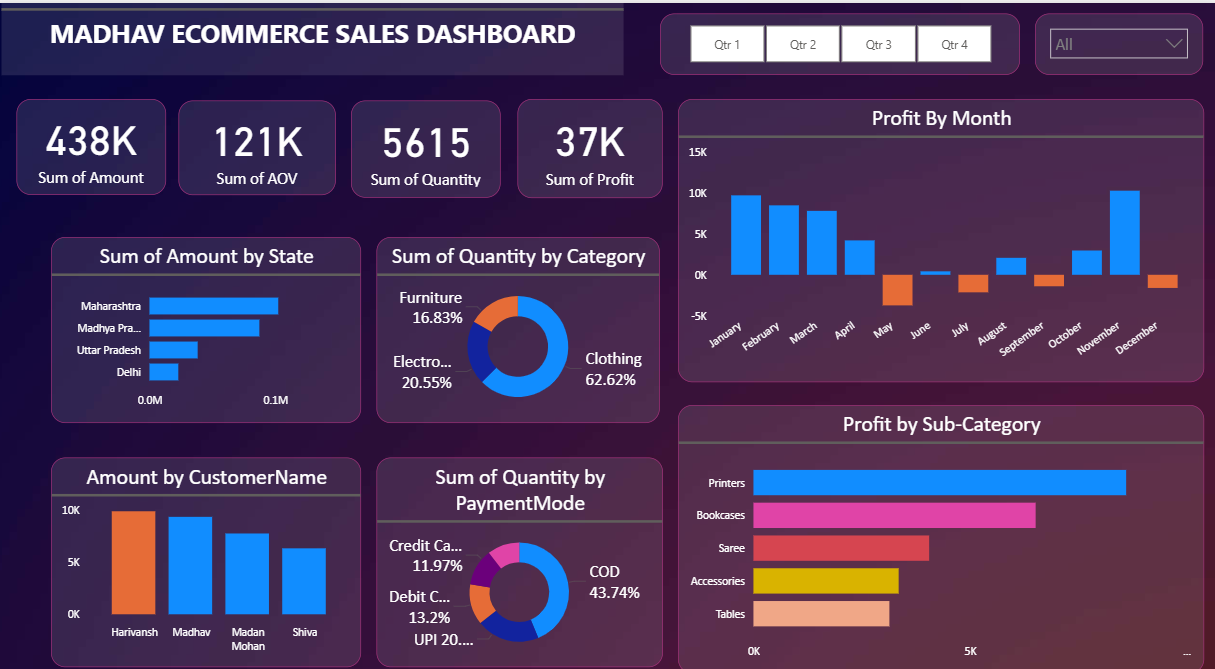

This screenshot's page, from the dashboard's own definition file:
{"tool":"powerbi","page":{"name":"Page 1","canvas":[1280,720],"ordinal":0},"visuals":[{"type":"textbox","box":[7.8,0,648.6,75],"z":0},{"type":"columnChart","title":" Profit By Month","fields":{"Category":["Orders.Order Date.Variation.Date Hierarchy.Month"],"Y":["Sum(Details.Profit)"]},"box":[712.7,100,548.6,295.4],"z":1000},{"type":"clusteredBarChart","title":"Profit by Sub-Category","fields":{"Category":["Details.Sub-Category"],"Y":["Sum(Details.Profit)"]},"box":[712.7,418.9,548.6,279.8],"z":2000},{"type":"donutChart","fields":{"Category":["Details.Category"],"Y":["Sum(Details.Quantity)"]},"box":[398.6,243.8,295.4,193.8],"z":3000},{"type":"donutChart","fields":{"Y":["Sum(Details.Quantity)"],"Category":["Details.PaymentMode"]},"box":[398.6,473.6,298.5,218.8],"z":4000},{"type":"card","fields":{"Values":["Sum(Details.Amount)"]},"box":[23.4,100,156.3,100],"z":5000},{"type":"card","fields":{"Values":["Sum(Details.Profit)"]},"box":[545.5,100,151.6,103.2],"z":6000},{"type":"card","fields":{"Values":["Sum(Details.Quantity)"]},"box":[372,101.6,156.3,101.6],"z":7000},{"type":"card","fields":{"Values":["Sum(Details.AOV)"]},"box":[192.2,101.6,164.1,98.5],"z":8000},{"type":"clusteredBarChart","fields":{"Category":["Orders.State","Details.Category"],"Y":["Sum(Details.Amount)"]},"box":[59.4,243.8,323.5,193.8],"z":10000},{"type":"columnChart","title":" Amount by CustomerName","fields":{"Category":["Orders.CustomerName"],"Y":["Sum(Details.Amount)"]},"box":[59.4,473.6,323.5,218.8],"z":11000},{"type":"slicer","fields":{"Values":["Orders.Order Date.Variation.Date Hierarchy.Quarter"]},"box":[694,10.9,375.1,64.1],"z":11001},{"type":"slicer","fields":{"Values":["Orders.State"]},"box":[1086.3,10.9,175.1,64.1],"z":11002}]}

Visuals, with their boxes in screenshot pixels (x1, y1, x2, y2), scaled from the page's 1280x720 canvas onto the 1215x669 screenshot:
textbox: locate(7, 0, 623, 70)
" Profit By Month" columnChart: locate(677, 93, 1197, 367)
"Profit by Sub-Category" clusteredBarChart: locate(677, 389, 1197, 649)
donutChart - Details.Category x Sum(Details.Quantity): locate(378, 227, 659, 407)
donutChart - Sum(Details.Quantity) x Details.PaymentMode: locate(378, 440, 662, 643)
card - Sum(Details.Amount): locate(22, 93, 171, 186)
card - Sum(Details.Profit): locate(518, 93, 662, 189)
card - Sum(Details.Quantity): locate(353, 94, 501, 189)
card - Sum(Details.AOV): locate(182, 94, 338, 186)
clusteredBarChart - Orders.State x Details.Category: locate(56, 227, 363, 407)
" Amount by CustomerName" columnChart: locate(56, 440, 363, 643)
slicer - Orders.Order Date.Variation.Date Hierarchy.Quarter: locate(659, 10, 1015, 70)
slicer - Orders.State: locate(1031, 10, 1197, 70)
